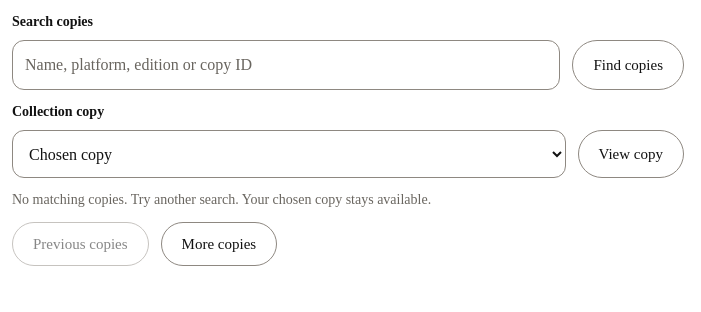
preserves a chosen copy across POST search, paging, empty matches and lookup errors
This screenshot has width=701, height=312.
Check: the dropdown labelled "Collection copy" shows "Chosen copy", box top-left (12, 130), bottom-right (566, 178)
Type "private name" into the field labelled "Search copies" at (286, 65), box top-left (12, 40), bottom-right (560, 90)
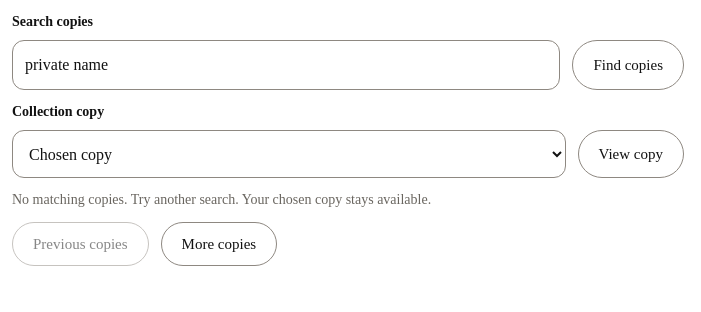
Click the button "Find copies" at (628, 65), box top-left (572, 40), bottom-right (684, 90)
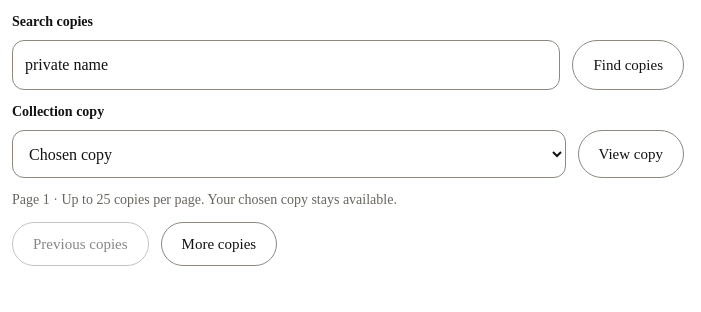
Select "Other copy" in the dropdown labelled "Collection copy" at (289, 154), box top-left (12, 130), bottom-right (566, 178)
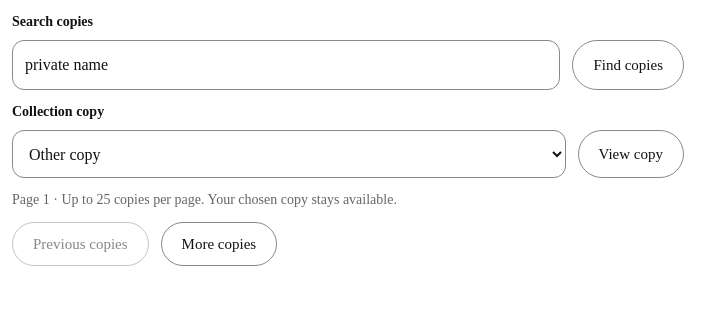
Replace the text in the field labelled "Search copies" with "unsubmitted" at (286, 65), box top-left (12, 40), bottom-right (560, 90)
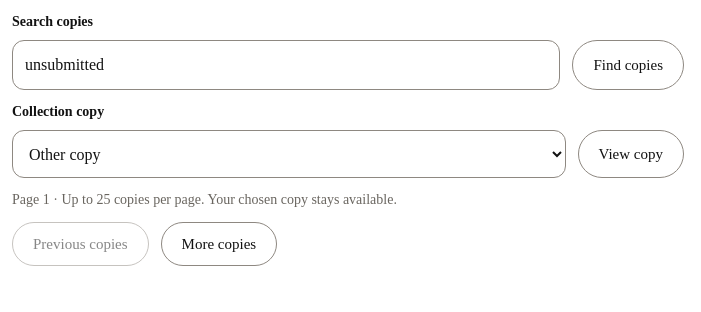
Click the button "More copies" at (219, 244), box top-left (161, 222), bottom-right (277, 266)
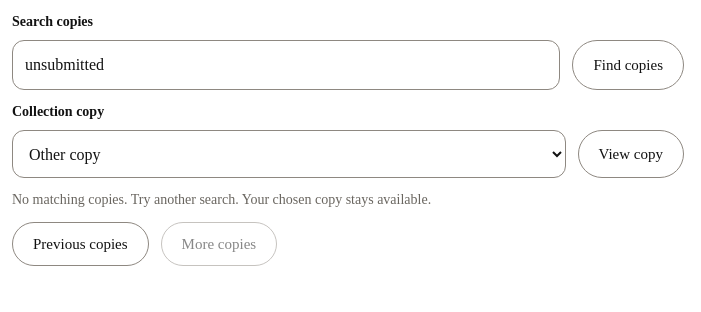
Check: the text "No matching copies. Try another search. Your chosen copy stays available." is shown, box top-left (12, 192), bottom-right (431, 207)
Check: the button "More copies" is disabled, box top-left (161, 222), bottom-right (277, 266)
Click the button "Previous copies" at (80, 244), box top-left (12, 222), bottom-right (149, 266)
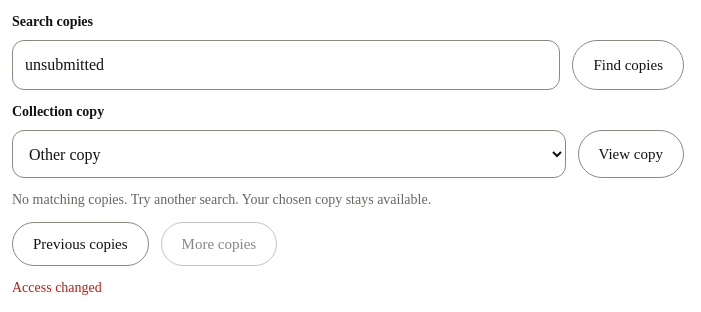
Check: the message "Access changed" is shown, box top-left (12, 280), bottom-right (102, 295)
